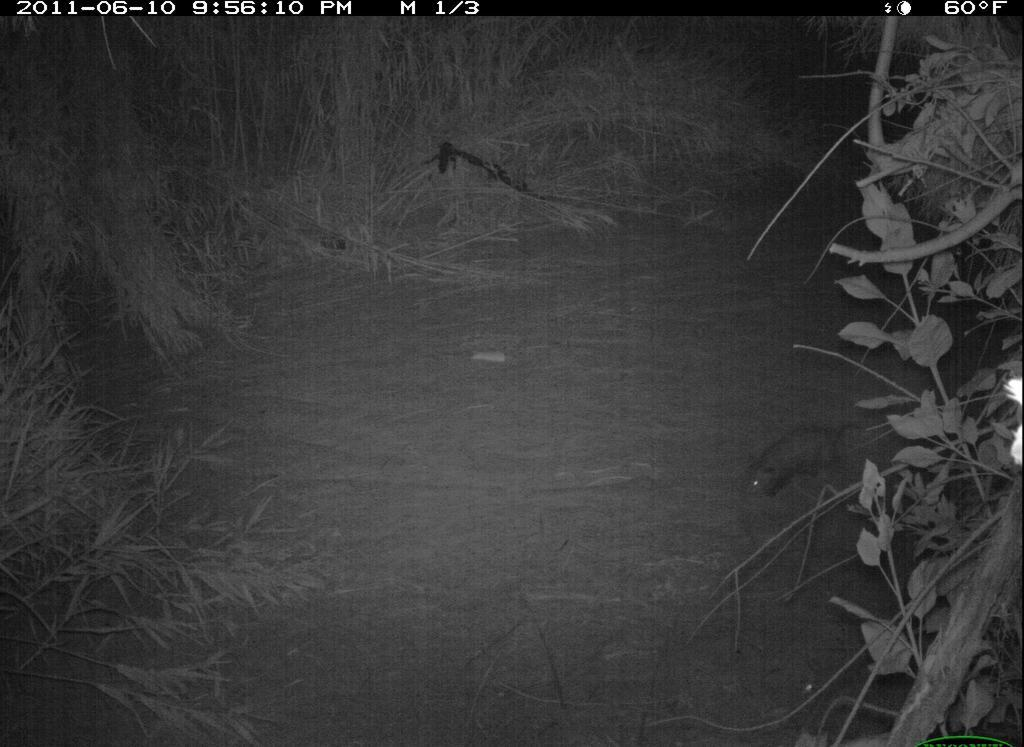opossum: (733, 399, 885, 514)
